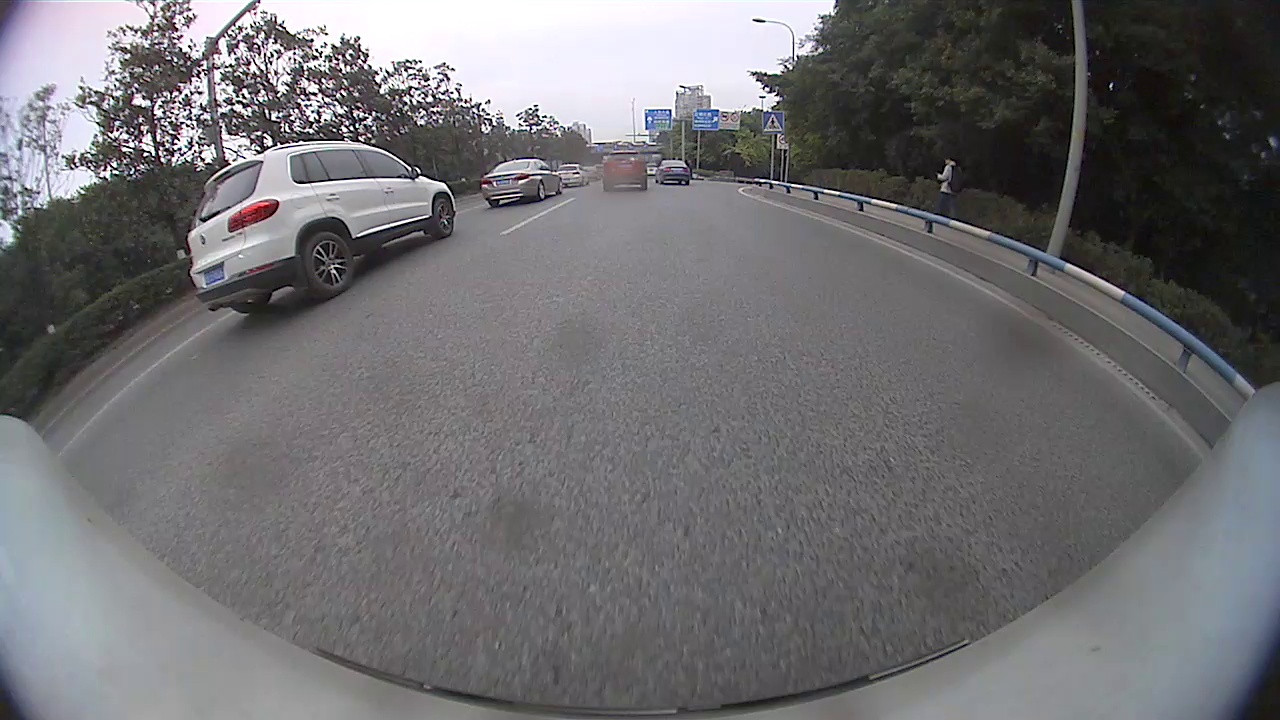car: (184, 140, 457, 314), (480, 157, 564, 208), (602, 148, 648, 192), (654, 159, 691, 186)
front: (429, 194, 457, 241)
person: (941, 154, 960, 221)
rear: (306, 226, 353, 298), (536, 183, 551, 203)
